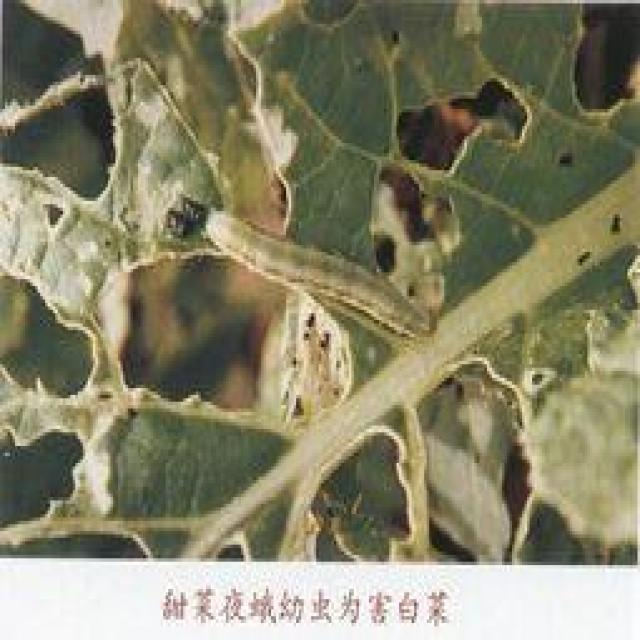BeetArmyWorm-Larva-: (202, 200, 451, 352)
